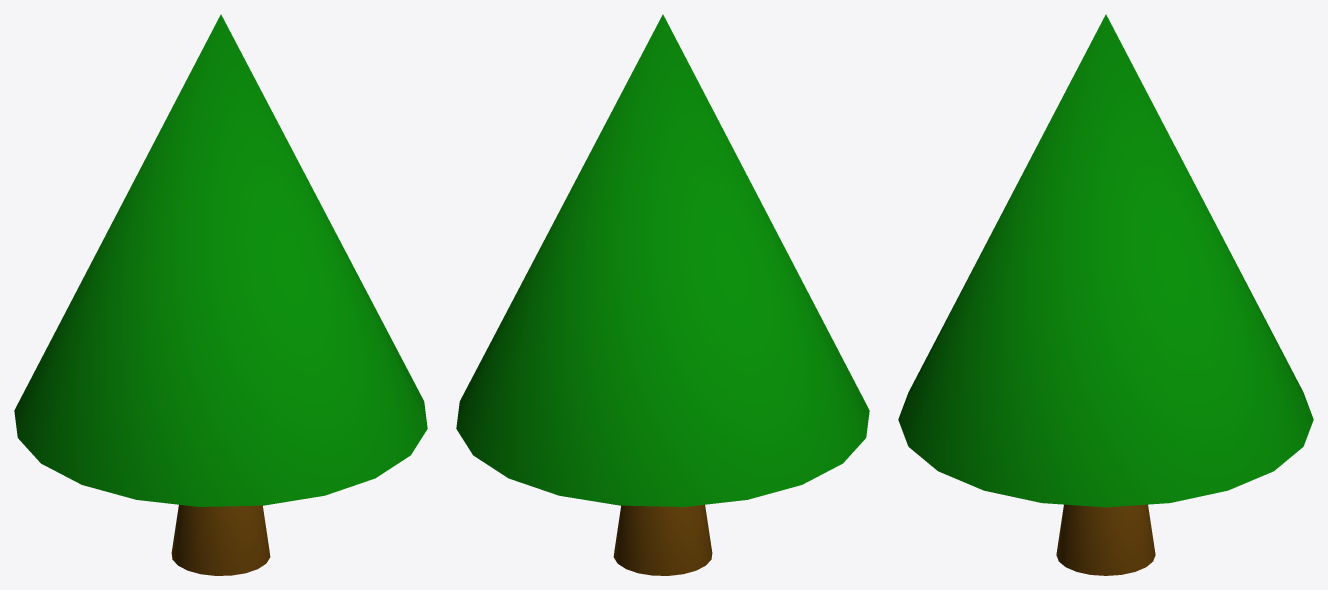
File: tree.fbx
3 renders of one model, left to right at view 1: azimuth 30°, elevation 25°; view 2: azimuth 150°, elevation 25°; view 3: azimuth 270°, elevation 25°, orthographic.
Visible parts, largest first — view 1: pCone3; view 2: pCone3; view 3: pCone3.
Part boxes in pixels (x1=…): pCone3: x1=14, y1=14, x2=427, y2=575; pCone3: x1=456, y1=14, x2=869, y2=575; pCone3: x1=898, y1=14, x2=1313, y2=575.
Bounding box in the file's own units: 2 × 2.87 × 2.
